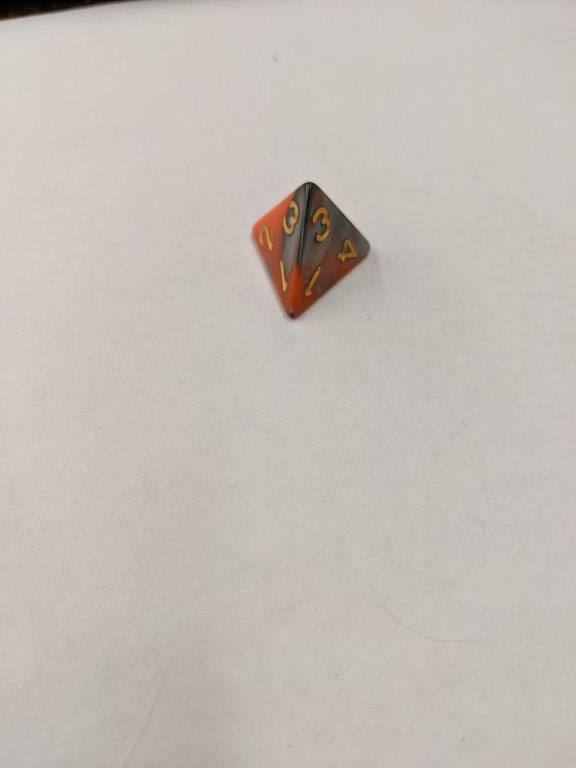d4-3: (245, 178, 377, 323)
